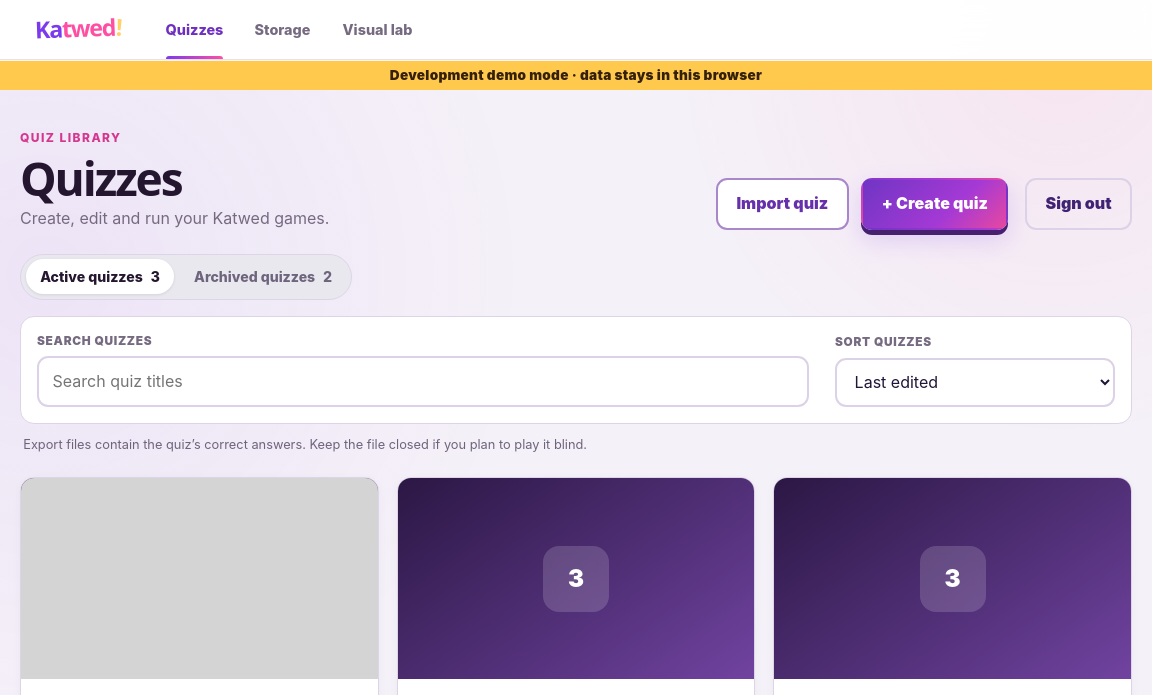
Test: HostDashboardPage quiz library › filters Active titles without case sensitivity, preserves total counts and clears the search
Step 1. Type "  TEAM  " into the search field labelled "Search quizzes" → (423,382), box [37,356,809,407]
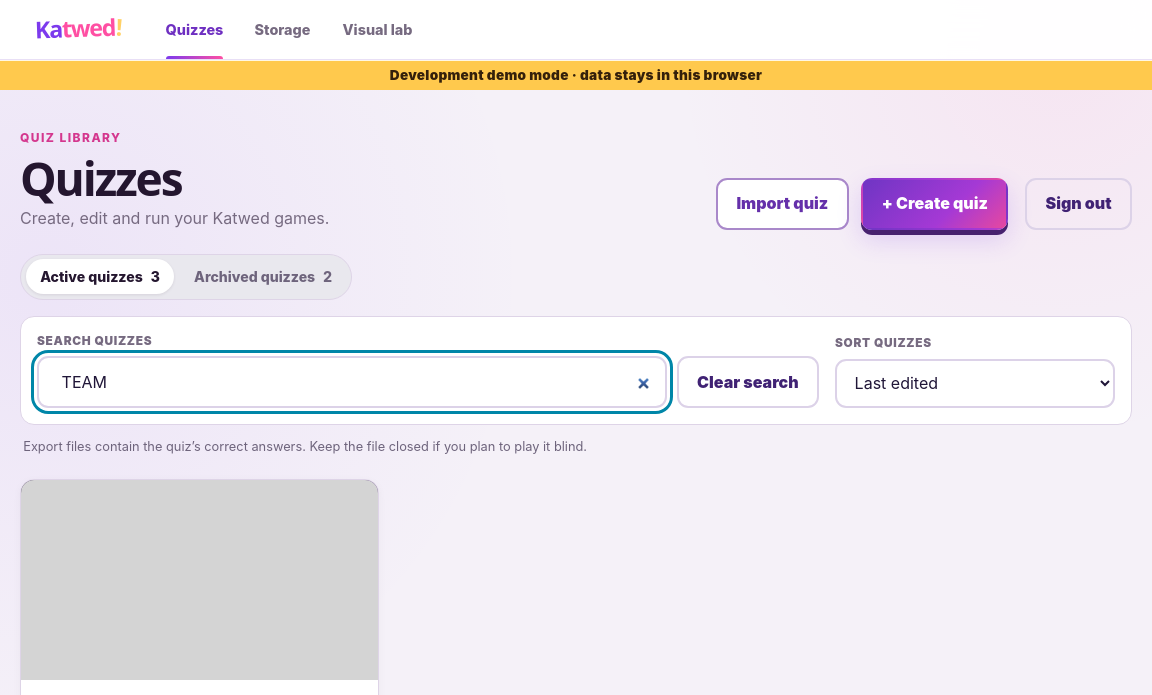
Expected: the tab "Active quizzes 3" is shown, [26,260,174,294]
Step 2. Click the button "Clear search" → (748,382), box [677,356,819,408]
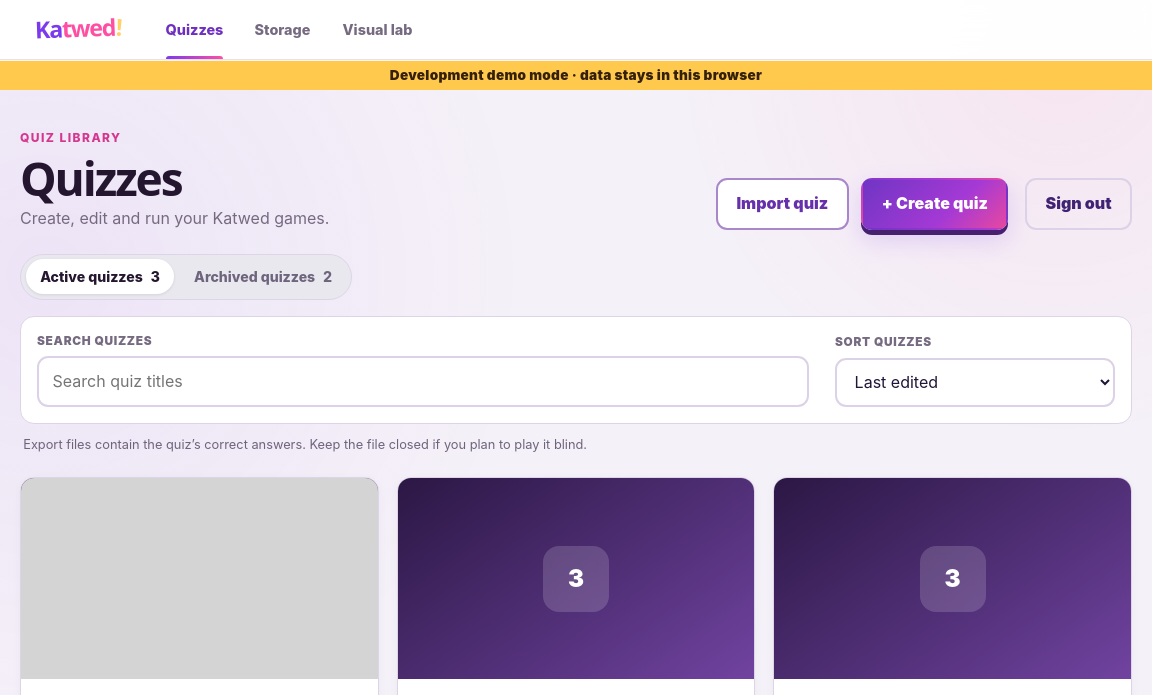
Expected: the search field labelled "Search quizzes" is empty, [37,356,809,407]
